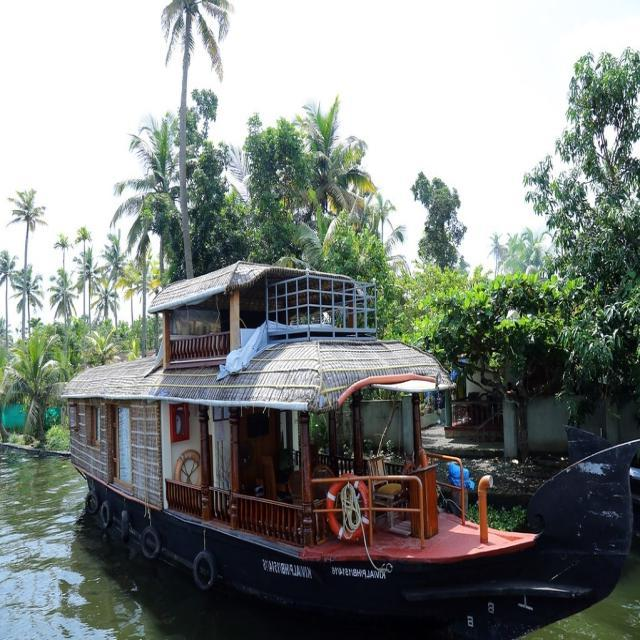boat: (61, 257, 534, 566)
